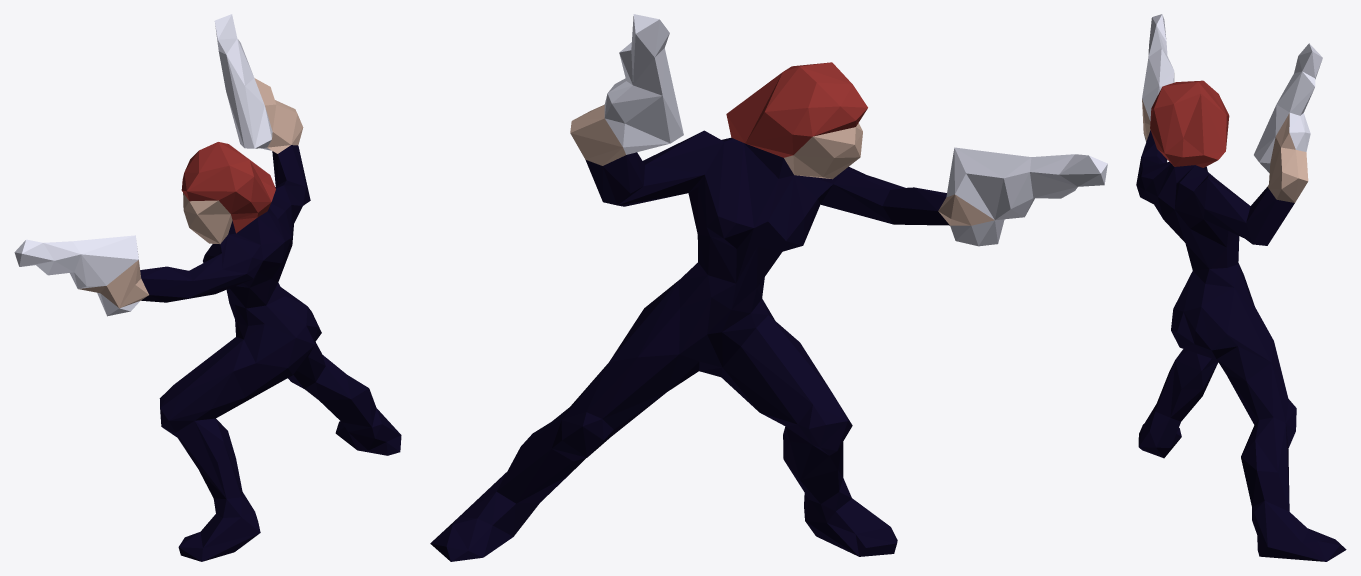
File: krav_maga_2_low_poly_colored.glb
The picture shows the model from 3 angles, left to right: view 1: azimuth 30°, elevation 25°; view 2: azimuth 150°, elevation 25°; view 3: azimuth 270°, elevation 25°; orthographic projection. The views are drawn at different scales.
Visible parts, largest first — view 1: Krav_Maga_2; view 2: Krav_Maga_2; view 3: Krav_Maga_2.
Boxes of the visible parts, bbox=[...] form: Krav_Maga_2: bbox=[14, 14, 401, 561]; Krav_Maga_2: bbox=[430, 14, 1107, 561]; Krav_Maga_2: bbox=[1136, 14, 1346, 561].
Size of the model in its own units: 1.78 by 1.72 by 0.7467.
